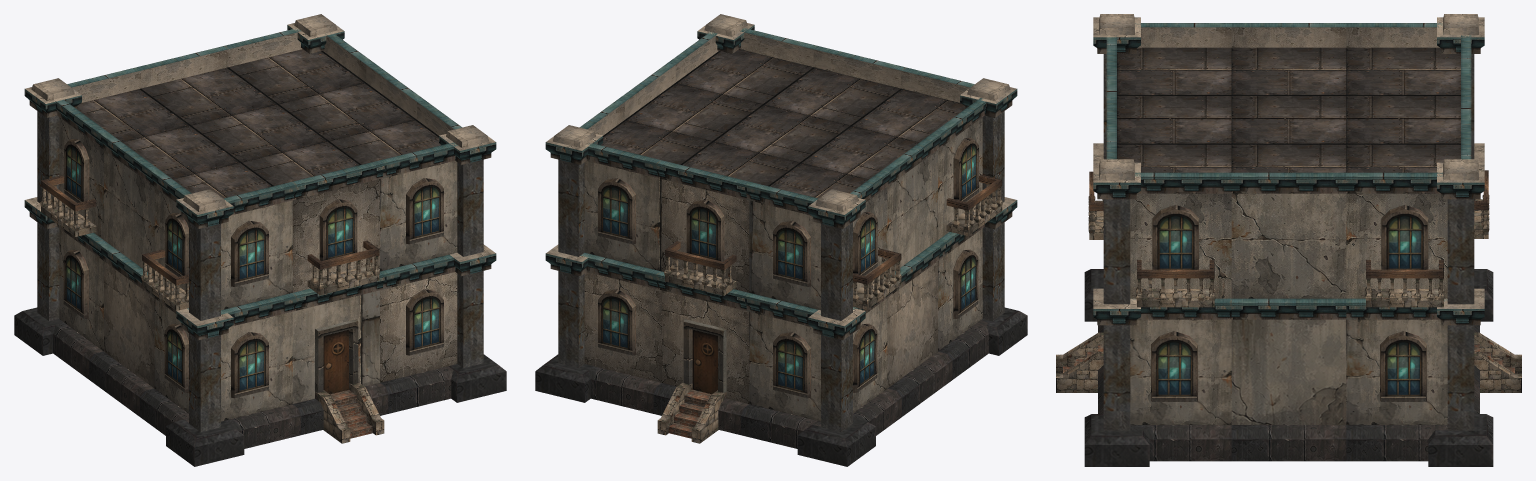
The model's file is building_1.fbx.
3 renders of one model, left to right at view 1: azimuth 30°, elevation 25°; view 2: azimuth 150°, elevation 25°; view 3: azimuth 270°, elevation 25°, orthographic. The views are drawn at different scales.
Parts seen in each view (by area): view 1: polySurface303; view 2: polySurface303; view 3: polySurface303.
Part boxes in pixels (bbox=[...]): polySurface303: bbox=[14, 14, 506, 466]; polySurface303: bbox=[535, 14, 1027, 466]; polySurface303: bbox=[1056, 14, 1521, 466].
Size of the model in its own units: 1070 by 830 by 1219.
